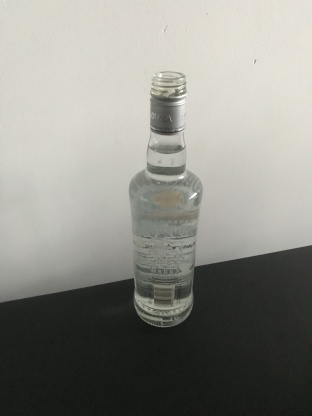nakretka: (148, 69, 188, 136)
